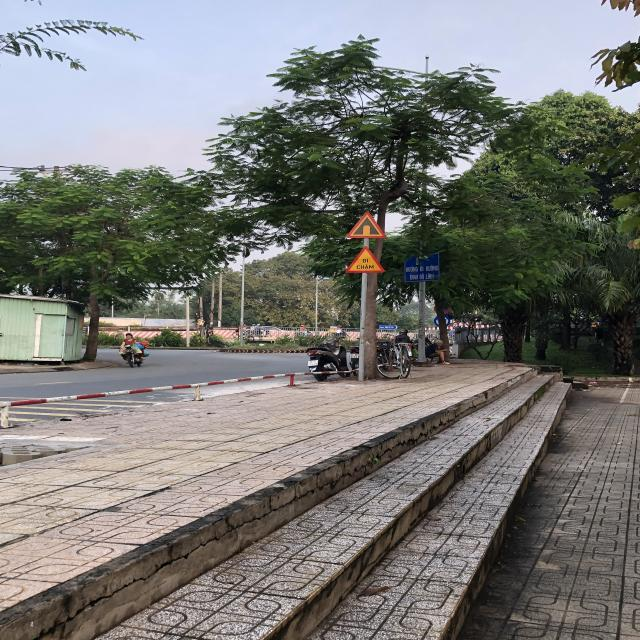Bien bao di cham: (342, 244, 386, 276)
